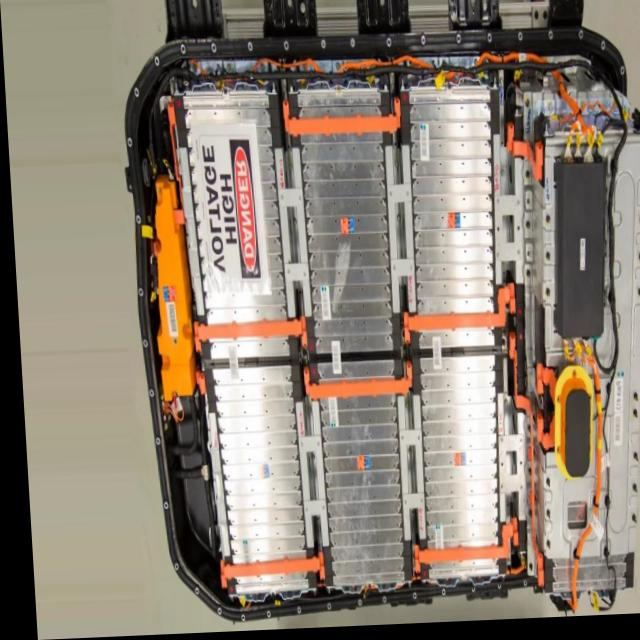Aluminum-frame: (381, 149, 415, 315), (275, 152, 305, 318), (388, 398, 420, 544), (292, 405, 321, 551), (176, 149, 200, 321), (488, 416, 521, 526), (202, 414, 222, 562)
Battery Module: (406, 94, 491, 318), (303, 139, 389, 356), (194, 113, 278, 322), (412, 358, 497, 552), (214, 368, 295, 565), (318, 400, 397, 588)
Bolt: (331, 61, 342, 76), (223, 60, 232, 77), (390, 160, 399, 175), (287, 217, 295, 232), (393, 214, 400, 229), (300, 408, 306, 424), (303, 454, 309, 470), (497, 174, 504, 187), (498, 403, 505, 416), (400, 402, 406, 415), (285, 163, 291, 176), (402, 450, 407, 465)
Bus-bar: (505, 339, 537, 593), (407, 522, 511, 575), (403, 289, 512, 336), (283, 103, 399, 138), (299, 367, 407, 403), (191, 319, 303, 353), (214, 554, 317, 589), (504, 123, 540, 187)
Cable: (201, 57, 594, 152)
Nut: (625, 413, 634, 428), (624, 458, 635, 470), (623, 519, 632, 533), (536, 544, 545, 558), (540, 255, 549, 269), (539, 291, 547, 305), (542, 218, 550, 232), (521, 174, 528, 190), (633, 292, 640, 307), (521, 223, 529, 236), (624, 488, 631, 502), (521, 273, 529, 285), (539, 482, 546, 494), (538, 513, 545, 524), (628, 398, 634, 409), (635, 220, 640, 233), (635, 259, 640, 272)
